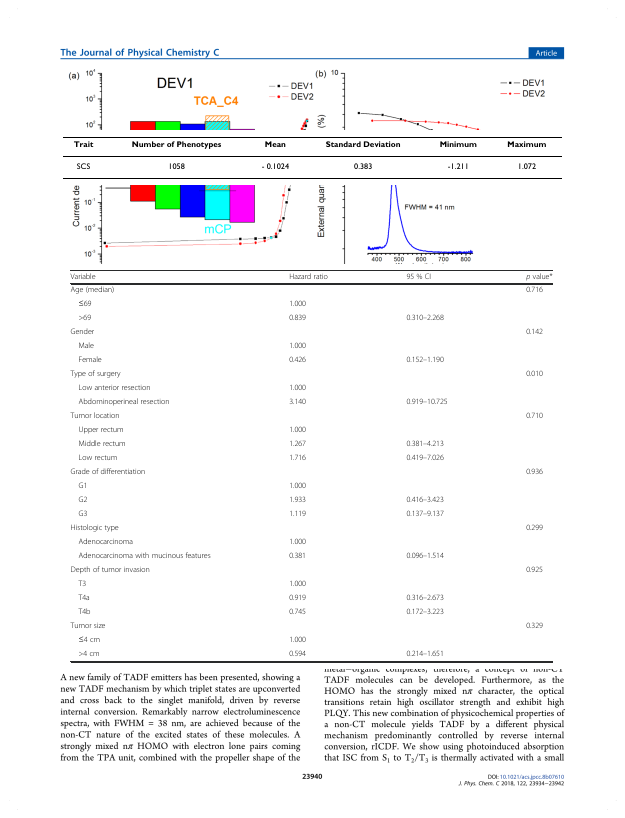borderless: (69, 269, 552, 661), (62, 135, 562, 178)
cell: (77, 552, 211, 562), (77, 398, 170, 408), (130, 140, 222, 149), (69, 566, 151, 576), (69, 468, 146, 478), (77, 384, 151, 394), (324, 140, 401, 149), (77, 538, 134, 548), (70, 370, 121, 380), (69, 524, 120, 534), (70, 412, 120, 422), (77, 440, 127, 450), (77, 426, 124, 436), (70, 286, 115, 296), (405, 398, 448, 408), (77, 454, 118, 464), (405, 314, 445, 324), (405, 356, 445, 366), (405, 440, 445, 450), (405, 454, 445, 464), (405, 496, 445, 506), (405, 510, 445, 520), (405, 552, 445, 562), (405, 594, 445, 604), (405, 608, 445, 618), (405, 650, 445, 660), (69, 622, 106, 632), (288, 273, 329, 282), (506, 140, 547, 149), (438, 140, 477, 149), (77, 356, 103, 366), (525, 273, 553, 282), (70, 328, 95, 338), (405, 273, 432, 282), (77, 636, 101, 646), (260, 162, 290, 170), (70, 273, 96, 282), (77, 650, 100, 660), (263, 140, 286, 149), (72, 140, 94, 149), (525, 286, 544, 296), (288, 300, 307, 310), (288, 314, 307, 324), (525, 328, 544, 338), (288, 342, 307, 352), (288, 356, 307, 366), (525, 370, 544, 380), (288, 384, 307, 394), (288, 398, 307, 408), (525, 412, 544, 422), (288, 426, 307, 436), (288, 440, 307, 450), (288, 454, 307, 464), (525, 468, 544, 478), (288, 482, 307, 492), (288, 496, 307, 506), (288, 510, 307, 520), (525, 524, 544, 534), (288, 538, 307, 548), (288, 552, 307, 562), (525, 566, 544, 576), (288, 580, 307, 590), (288, 594, 307, 604), (288, 608, 307, 618), (525, 622, 544, 632), (288, 636, 307, 646), (288, 650, 307, 660), (446, 162, 469, 170), (77, 342, 95, 352), (516, 162, 537, 170), (353, 162, 373, 170), (77, 300, 92, 310), (77, 314, 92, 324), (167, 162, 185, 170), (77, 594, 91, 604), (77, 608, 91, 618), (75, 162, 91, 170), (77, 482, 88, 492), (77, 496, 88, 506), (77, 510, 88, 520), (77, 580, 87, 590)
